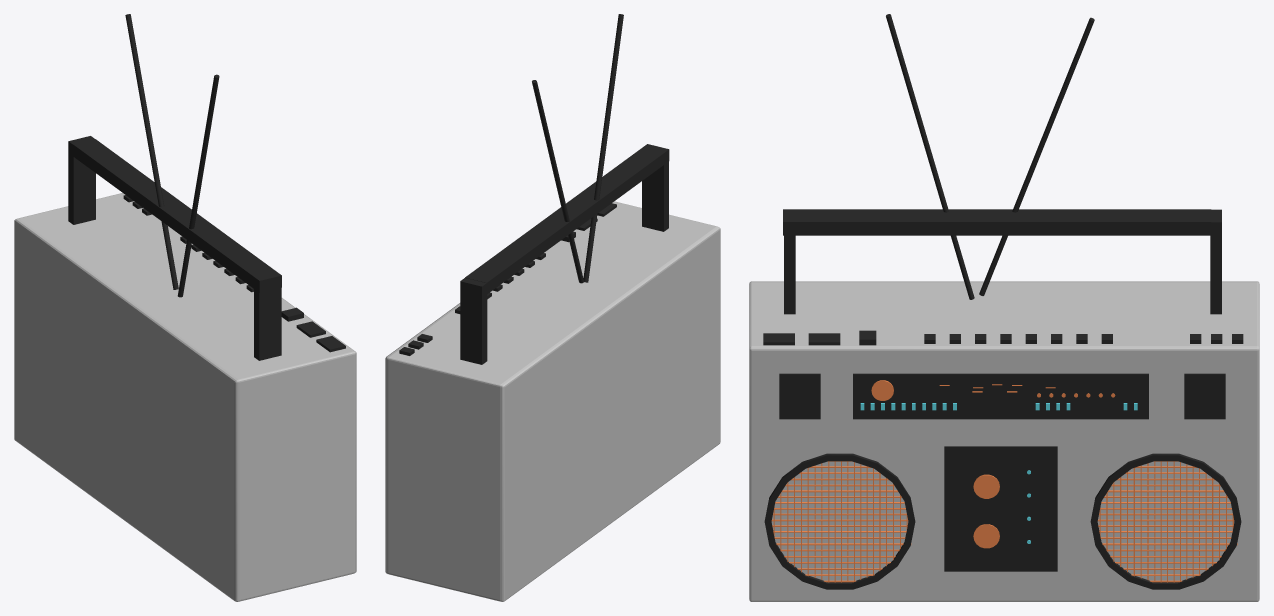
Rendered from Boom box.gltf.
3 views of the same model, side by side, from view 1: azimuth 30°, elevation 25°; view 2: azimuth 150°, elevation 25°; view 3: azimuth 270°, elevation 25° (orthographic). The views are drawn at different scales.
Visible parts, largest first — view 1: node-0; view 2: node-0; view 3: node-0.
Boxes of the visible parts, left/top/right/bottom form: node-0: left=14, top=14, right=356, bottom=601; node-0: left=385, top=14, right=720, bottom=601; node-0: left=749, top=14, right=1259, bottom=601.
Bounding box in the file's own units: 5724 × 20663 × 17592.
